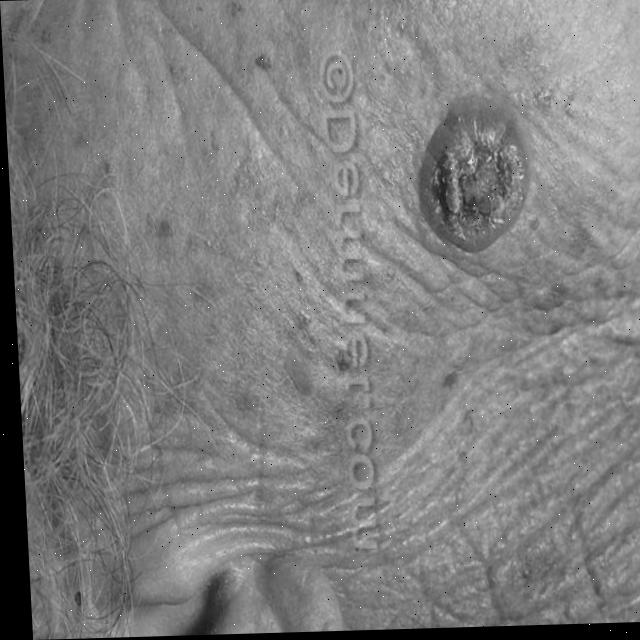Eczema: (407, 121, 525, 238)
